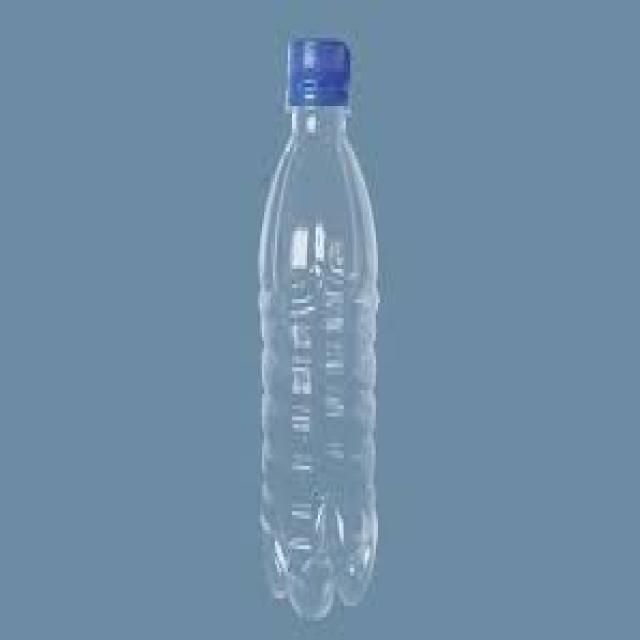Plastic: (261, 34, 377, 618)
